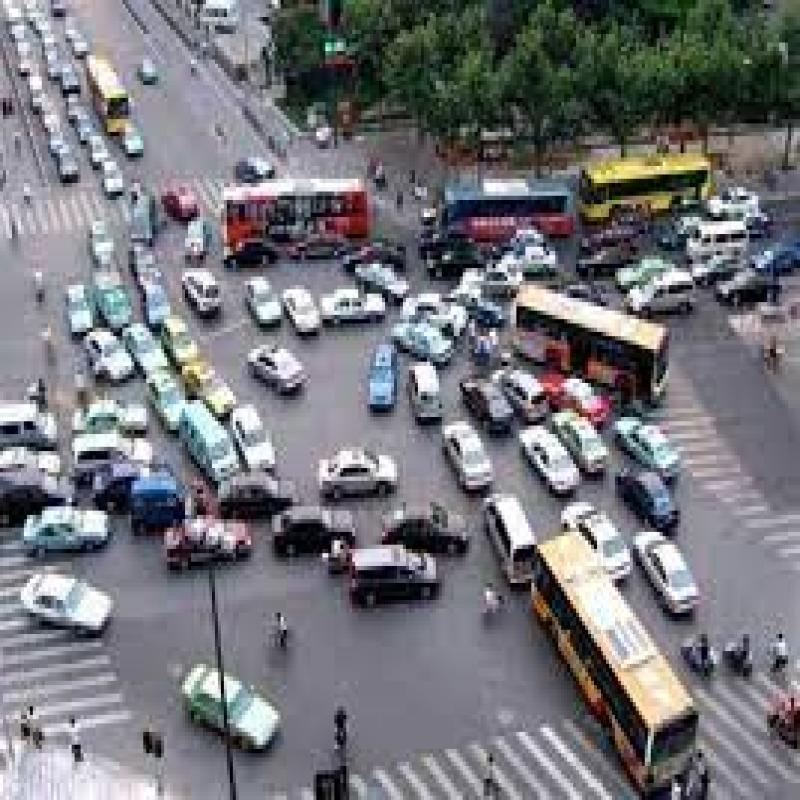bus: (528, 481, 710, 800), (516, 270, 672, 406), (216, 165, 388, 255), (423, 165, 575, 249), (570, 154, 717, 208)
car: (183, 653, 283, 765), (159, 504, 257, 602), (24, 560, 126, 650), (336, 541, 444, 621), (643, 522, 707, 625), (479, 497, 542, 592), (268, 503, 360, 564), (317, 438, 407, 499), (436, 419, 492, 499), (250, 327, 307, 398), (627, 272, 701, 324), (368, 332, 405, 421), (174, 266, 236, 319), (324, 281, 381, 334), (242, 279, 292, 337)
